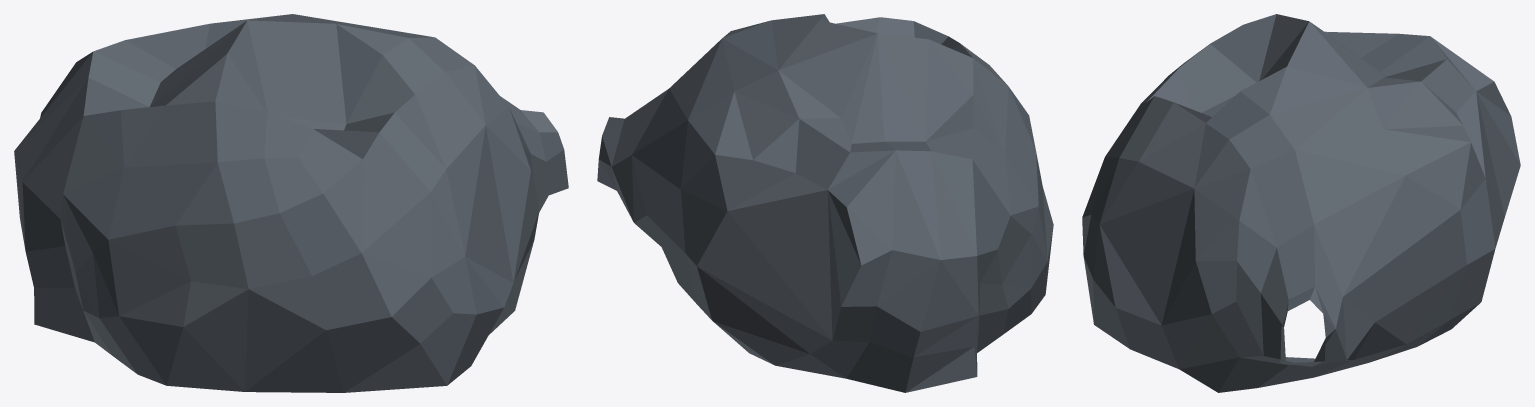
Rendered from Dome-1exit-07.fbx.
3 renders of one model, left to right at view 1: azimuth 30°, elevation 25°; view 2: azimuth 150°, elevation 25°; view 3: azimuth 270°, elevation 25°, orthographic. The views are drawn at different scales.
Parts seen in each view (by area): view 1: Dome-1exit-07; view 2: Dome-1exit-07; view 3: Dome-1exit-07.
Boxes of the visible parts, bbox=[...] form: Dome-1exit-07: bbox=[14, 14, 568, 392]; Dome-1exit-07: bbox=[597, 14, 1053, 392]; Dome-1exit-07: bbox=[1082, 14, 1520, 392].
Bounding box in the file's own units: 1746 × 1958 × 1239.
